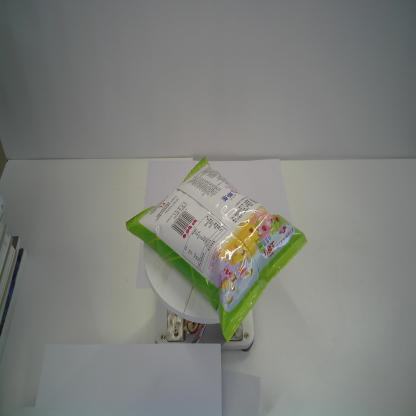Puffed Food: (124, 154, 309, 345)
